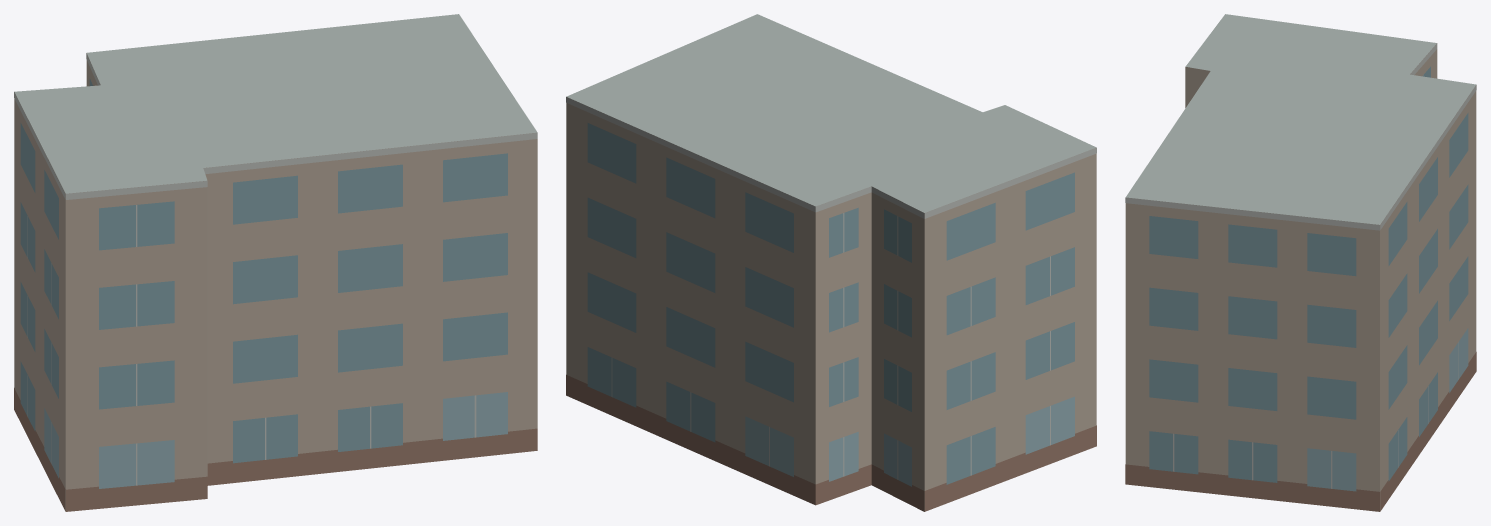
The model's file is survey-upis-32582321.glb.
3 views of the same model, side by side, from view 1: azimuth 30°, elevation 25°; view 2: azimuth 150°, elevation 25°; view 3: azimuth 270°, elevation 25° (orthographic). The views are drawn at different scales.
Visible parts, largest first — view 1: survey-upis-32582321.tmp; view 2: survey-upis-32582321.tmp; view 3: survey-upis-32582321.tmp.
Boxes of the visible parts, <box> form: survey-upis-32582321.tmp: <box>14,14,537,511</box>; survey-upis-32582321.tmp: <box>566,14,1096,511</box>; survey-upis-32582321.tmp: <box>1125,14,1476,511</box>.
Bounding box in the file's own units: 19.24 × 12.2 × 13.53.
